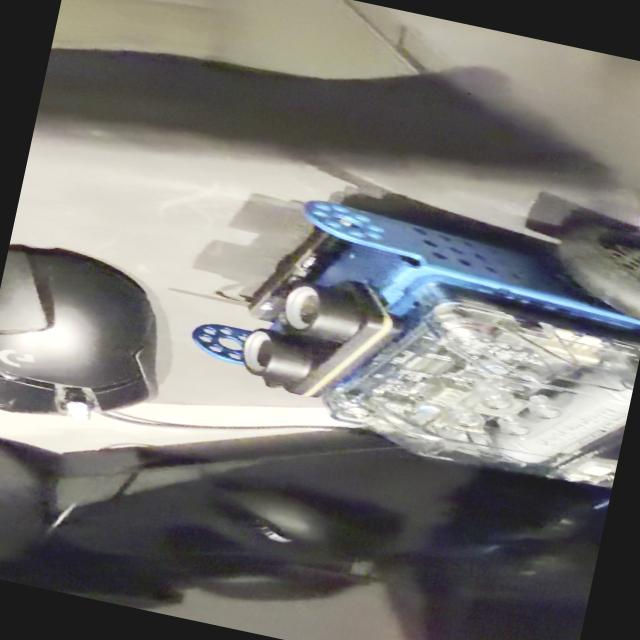mbot-detection: (163, 134, 640, 508)
